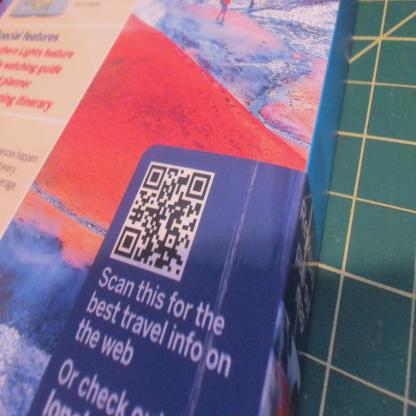qr: (117, 162, 216, 282)
